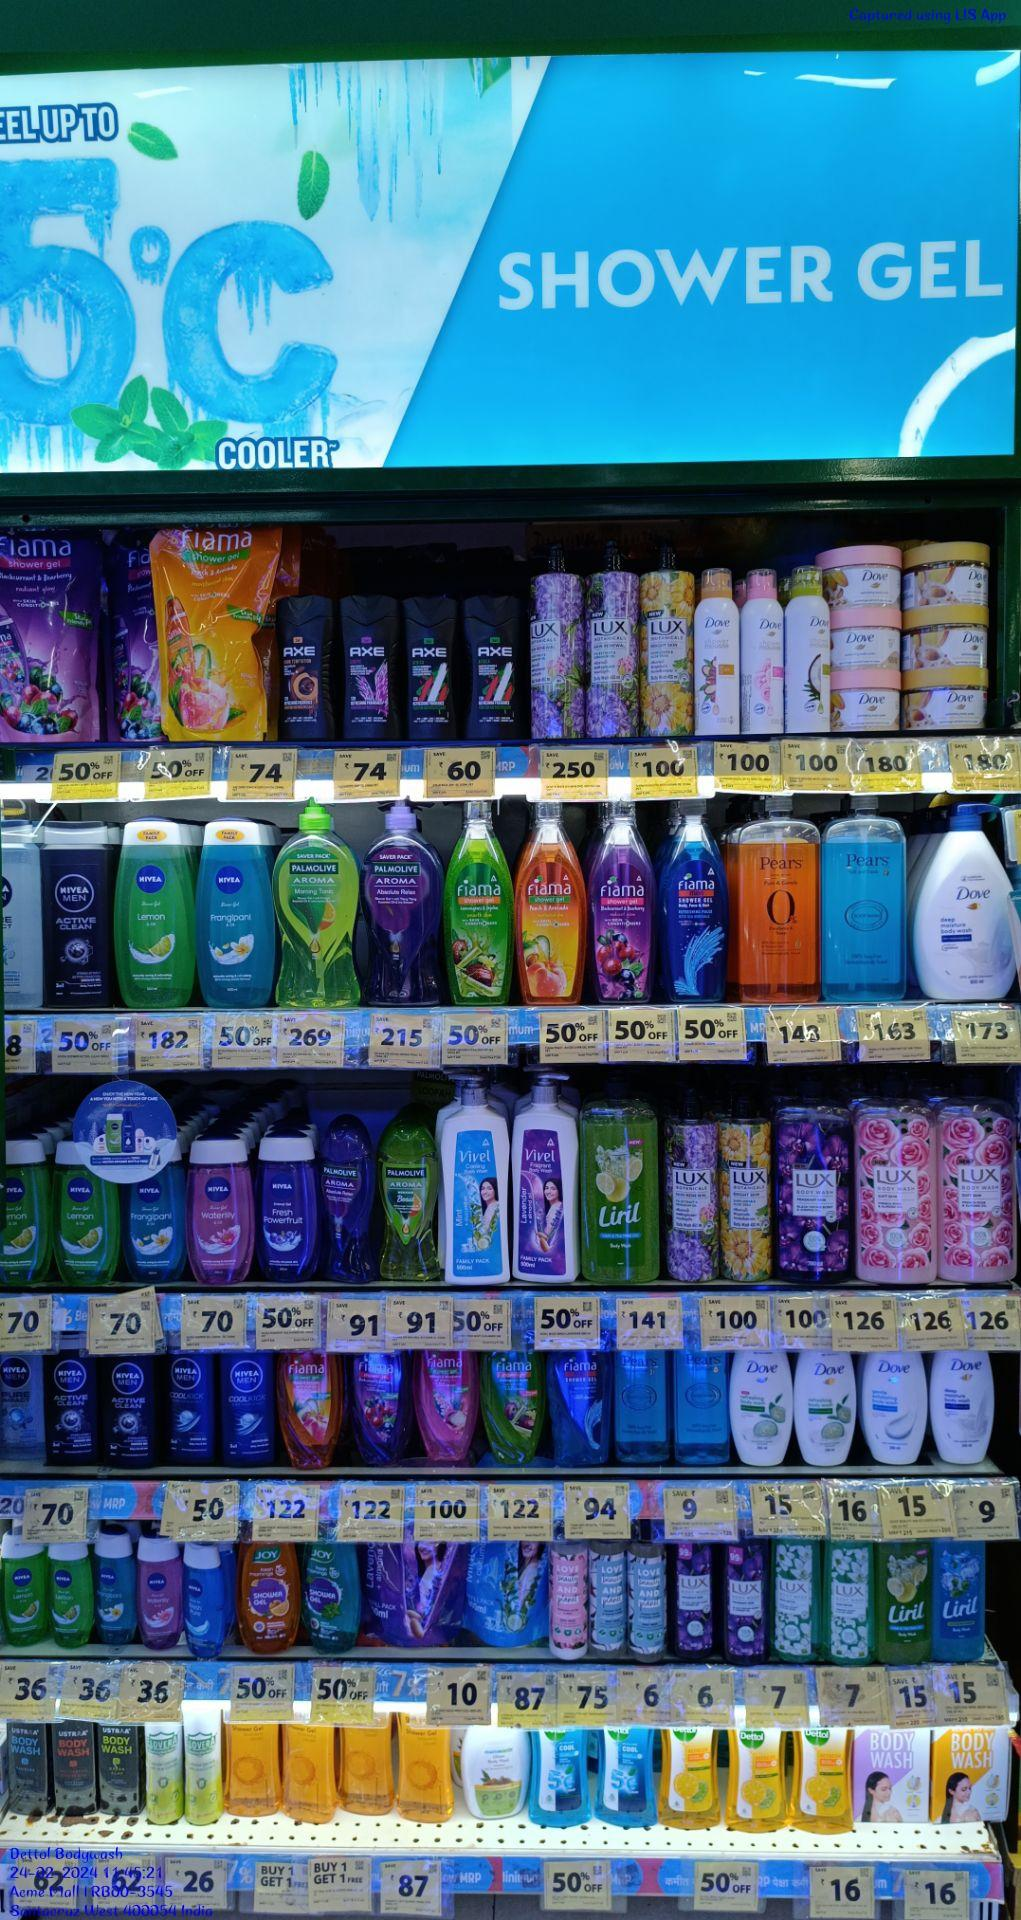Dettol_Bodywash_Cool: (530, 1732, 596, 1829), (602, 1730, 658, 1829)
Dettol_Bodywash_Refresh: (791, 1732, 855, 1831), (725, 1732, 789, 1829), (662, 1730, 720, 1830)
Get_Real_Shower_Gel_Moisturising_Glycerin_300ML: (397, 1724, 456, 1825), (224, 1717, 281, 1816), (283, 1722, 338, 1825), (338, 1727, 395, 1817)
Joy_Shower_Gel_Mandarin_and_Lemongrass_250ML: (239, 1542, 302, 1653)
Joy_Shower_Gel_Mint_and_Eucalyptus_250ML: (305, 1540, 364, 1653)
Lux_Black_Orchid_Scent_and_Juniper_Oil_Body_Wash_245ML: (723, 1543, 770, 1666), (672, 1540, 716, 1661)
Lux_Body_Wash_Skin_Detox_Freesia_Scent_and_Alove_Vera_245ML: (825, 1538, 876, 1666), (772, 1538, 822, 1665)
Nivea_Shower_Gel_Frangipani_and_Oil_250ML: (196, 817, 274, 1010), (130, 1144, 187, 1279), (94, 1538, 137, 1642)
Nivea_Shower_Gel_Fresh_Powerfruit_250ML: (257, 1137, 316, 1281), (185, 1540, 229, 1660)
Nivea_Shower_Gel_Lemon_and_Oil_250ML: (118, 818, 198, 1004), (55, 1143, 122, 1280), (4, 1138, 50, 1288), (0, 1543, 50, 1647), (48, 1544, 93, 1647)
Nivea_Shower_Gel_Waterlily_and_Oil_250ML: (188, 1143, 253, 1284), (140, 1538, 185, 1647)
Palmolive_Aroma_Morning_Tonic_Shower_Gel_250ML: (382, 1131, 441, 1281)
Palmolive_Aroma_Relax_250ML: (317, 1131, 380, 1284)
